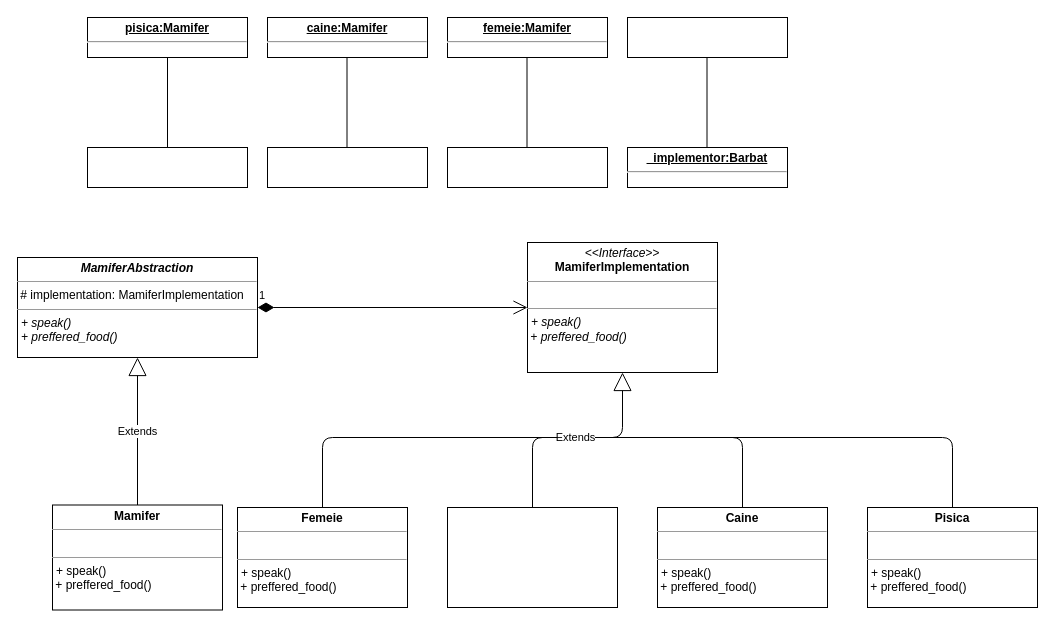
Some shapes in this 1055 by 628 pixel diagram are drawn without their labels. The shapes that lost their labels are listed below. From the top down, each one's centre as x and y in pixels, then its label:
At (x=707, y=37): "barbat:Mamifer".
At (x=167, y=167): "_implementor:Pisica".
At (x=347, y=167): "_implementor:Caine".
At (x=527, y=167): "_implementor:Femeie".
At (x=532, y=557): "Barbat + speak() + preffered_food()".
